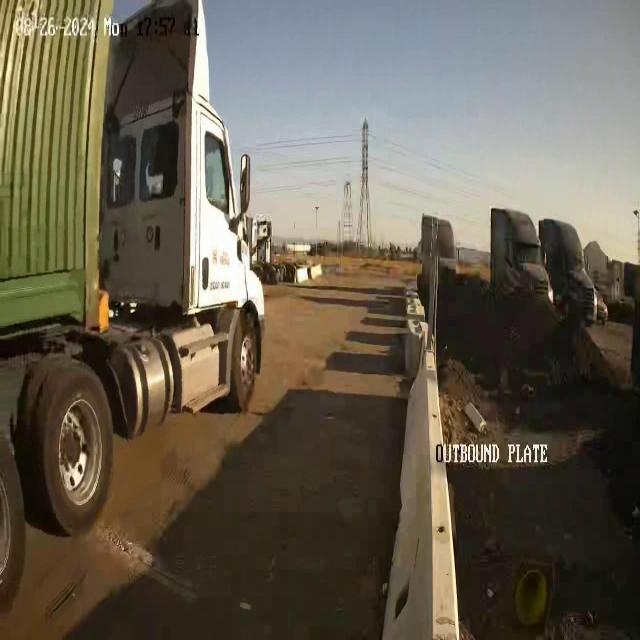TRUCK_CONTAINER: (0, 0, 266, 537)
